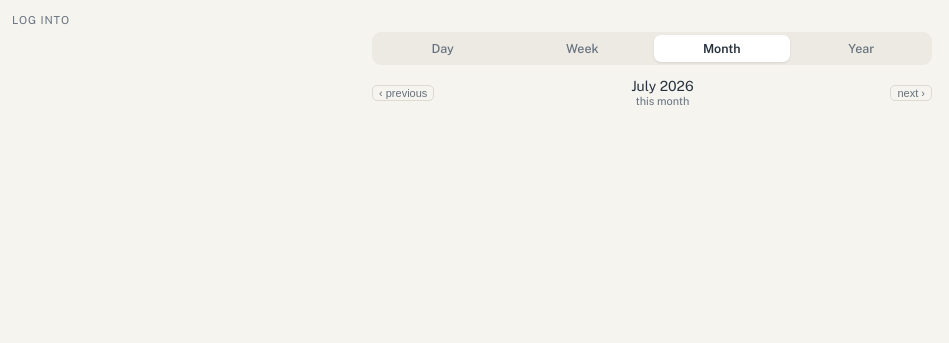
the chooser stays hidden until the page name is tapped
Click the button with aria-label "July 2026 — choose a different month" at (662, 92), box [442,73,882,112]
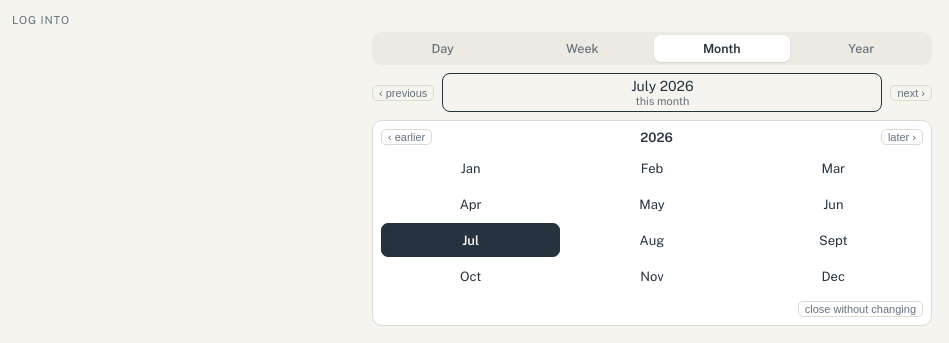
Now the element named "Choose a month page" is shown, box [372,120,932,326]
